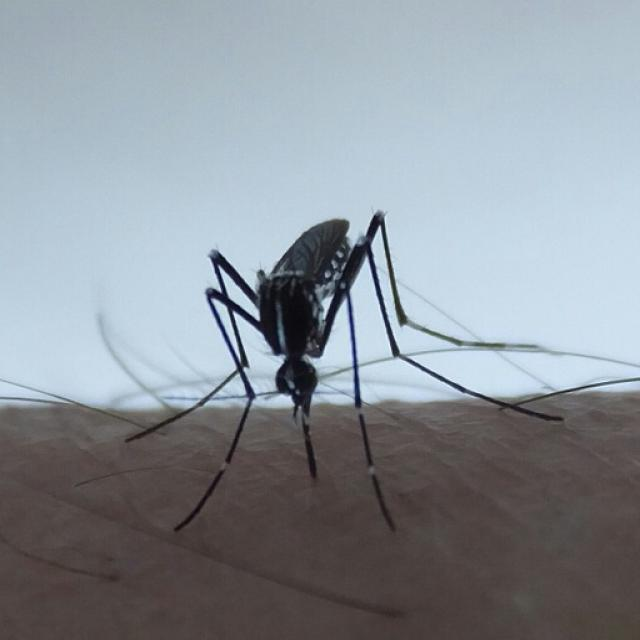albopictus: (106, 187, 612, 551)
